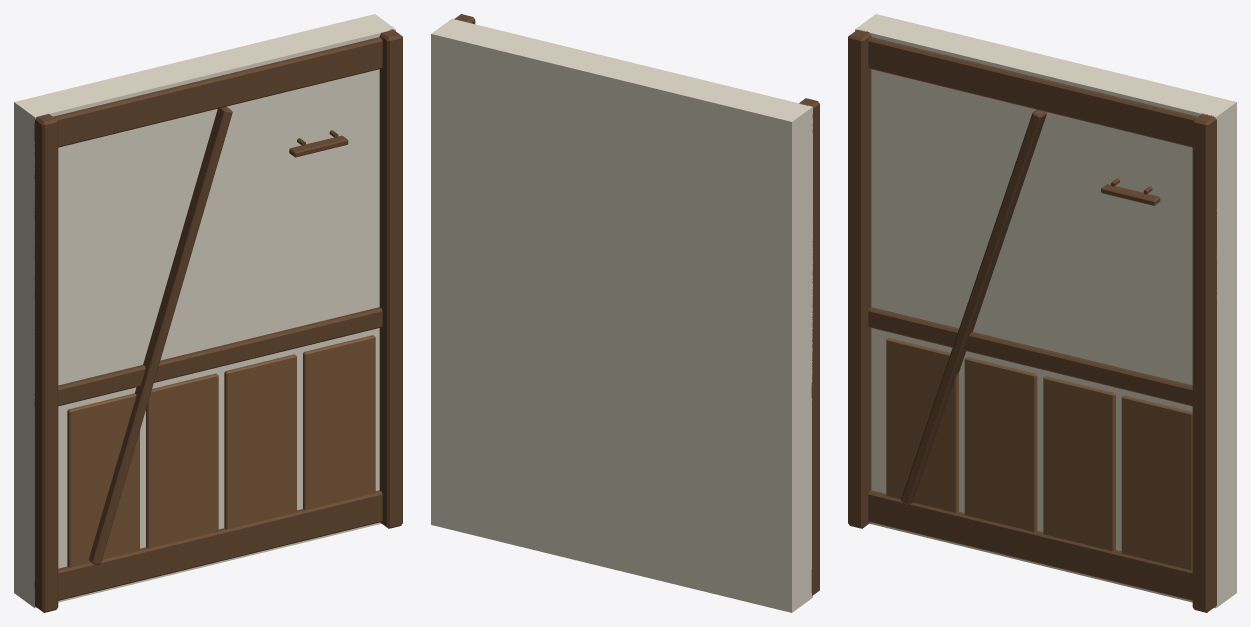
Rendered from SM_Wall_TavernFrame_02_Straight.fbx.
3 renders of one model, left to right at view 1: azimuth 30°, elevation 25°; view 2: azimuth 150°, elevation 25°; view 3: azimuth 330°, elevation 25°, orthographic.
Visible parts, largest first — view 1: SM_Wall_TavernFrame_02_Straight_Panel, SM_Wall_TavernFrame_02_Straight_Stud0, SM_Wall_TavernFrame_02_Straight_Wainscot2, SM_Wall_TavernFrame_02_Straight_Stud1, SM_Wall_TavernFrame_02_Straight_Wainscot3, SM_Wall_TavernFrame_02_Straight_Wainscot1, SM_Wall_TavernFrame_02_Straight_Plate, SM_Wall_TavernFrame_02_Straight_Sill, SM_Wall_TavernFrame_02_Straight_Wainscot0, SM_Wall_TavernFrame_02_Straight_Brace, SM_Wall_TavernFrame_02_Straight_Rail, SM_Wall_TavernFrame_02_Straight_MugShelf; view 2: SM_Wall_TavernFrame_02_Straight_Panel, SM_Wall_TavernFrame_02_Straight_Stud0; view 3: SM_Wall_TavernFrame_02_Straight_Panel, SM_Wall_TavernFrame_02_Straight_Stud1, SM_Wall_TavernFrame_02_Straight_Wainscot1, SM_Wall_TavernFrame_02_Straight_Stud0, SM_Wall_TavernFrame_02_Straight_Wainscot2, SM_Wall_TavernFrame_02_Straight_Wainscot3, SM_Wall_TavernFrame_02_Straight_Plate, SM_Wall_TavernFrame_02_Straight_Sill, SM_Wall_TavernFrame_02_Straight_Wainscot0, SM_Wall_TavernFrame_02_Straight_Rail, SM_Wall_TavernFrame_02_Straight_Brace, SM_Wall_TavernFrame_02_Straight_MugShelf.
Part boxes in pixels (x1,y1,x2,y2): SM_Wall_TavernFrame_02_Straight_Panel: [14, 14, 395, 608]; SM_Wall_TavernFrame_02_Straight_Stud0: [34, 113, 58, 612]; SM_Wall_TavernFrame_02_Straight_Wainscot2: [224, 354, 296, 529]; SM_Wall_TavernFrame_02_Straight_Stud1: [379, 29, 402, 528]; SM_Wall_TavernFrame_02_Straight_Wainscot3: [303, 335, 375, 509]; SM_Wall_TavernFrame_02_Straight_Wainscot1: [146, 373, 218, 548]; SM_Wall_TavernFrame_02_Straight_Plate: [34, 37, 382, 150]; SM_Wall_TavernFrame_02_Straight_Sill: [34, 490, 382, 603]; SM_Wall_TavernFrame_02_Straight_Wainscot0: [67, 393, 139, 567]; SM_Wall_TavernFrame_02_Straight_Brace: [88, 106, 232, 564]; SM_Wall_TavernFrame_02_Straight_Rail: [34, 307, 382, 409]; SM_Wall_TavernFrame_02_Straight_MugShelf: [289, 135, 348, 157]; SM_Wall_TavernFrame_02_Straight_Panel: [431, 18, 812, 612]; SM_Wall_TavernFrame_02_Straight_Stud0: [799, 98, 819, 595]; SM_Wall_TavernFrame_02_Straight_Panel: [855, 14, 1236, 608]; SM_Wall_TavernFrame_02_Straight_Stud1: [1192, 113, 1216, 612]; SM_Wall_TavernFrame_02_Straight_Wainscot1: [964, 357, 1037, 531]; SM_Wall_TavernFrame_02_Straight_Stud0: [848, 29, 871, 528]; SM_Wall_TavernFrame_02_Straight_Wainscot2: [1043, 376, 1115, 550]; SM_Wall_TavernFrame_02_Straight_Wainscot3: [1121, 395, 1192, 570]; SM_Wall_TavernFrame_02_Straight_Plate: [868, 37, 1216, 148]; SM_Wall_TavernFrame_02_Straight_Sill: [868, 490, 1192, 600]; SM_Wall_TavernFrame_02_Straight_Wainscot0: [886, 338, 958, 512]; SM_Wall_TavernFrame_02_Straight_Rail: [868, 307, 1214, 408]; SM_Wall_TavernFrame_02_Straight_Brace: [901, 109, 1046, 505]; SM_Wall_TavernFrame_02_Straight_MugShelf: [1101, 184, 1160, 205].
Size of the model in its own units: 2 by 2.6 by 0.28.
